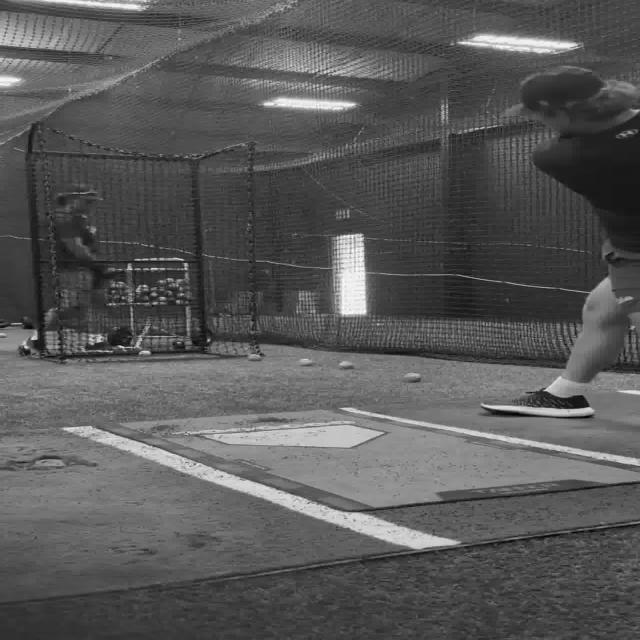base: (200, 423, 390, 452)
baseball: (401, 372, 421, 383), (296, 358, 313, 366), (338, 361, 353, 368), (247, 354, 262, 361), (138, 350, 151, 356)
shoe: (480, 389, 594, 417), (85, 334, 112, 352)
